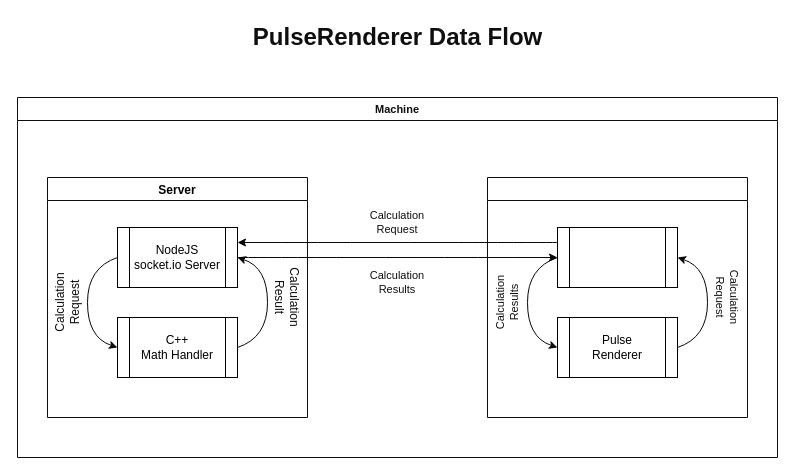
The diagram is 795 pixels wide and 475 high, and some of its shapes have lost their labels. Each missing label, with the box of its shape:
Fabric Client: (486, 176, 748, 418)
Java socket.io Client: (556, 226, 678, 288)
